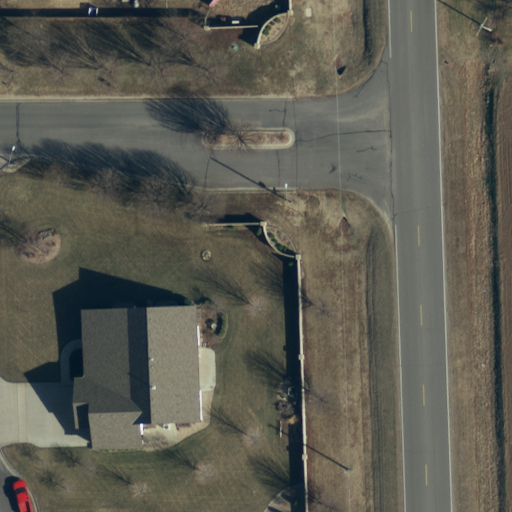DT: (335, 454, 360, 481)
